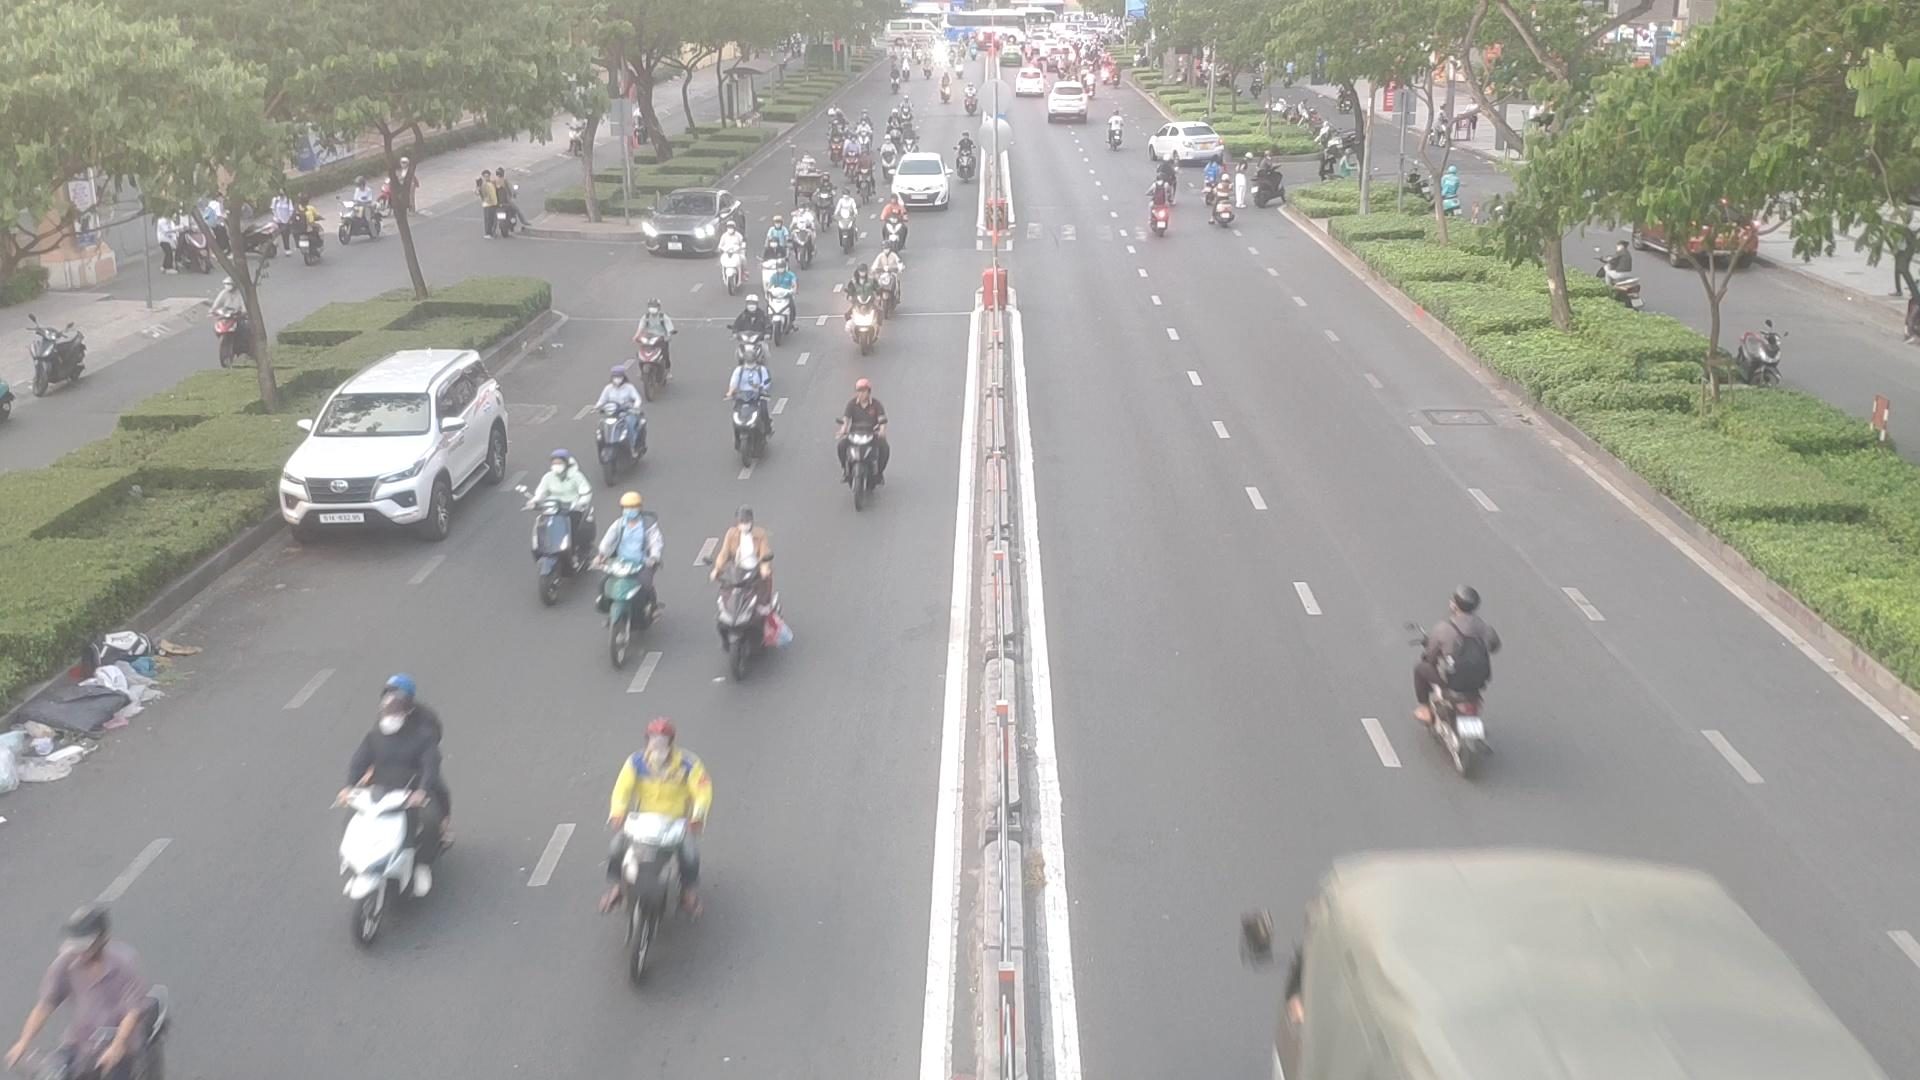car: (280, 353, 514, 545), (644, 191, 738, 257), (1145, 123, 1226, 165), (891, 152, 952, 207)
motorbike: (320, 675, 458, 971), (605, 709, 732, 1005), (1404, 583, 1501, 786), (597, 491, 676, 671), (518, 446, 593, 611), (708, 512, 775, 678), (591, 375, 653, 483), (841, 386, 884, 516), (729, 353, 771, 469), (637, 303, 673, 404), (847, 261, 878, 349), (764, 262, 796, 342), (720, 218, 745, 294), (876, 241, 899, 316), (1147, 181, 1174, 241), (794, 204, 815, 274), (833, 191, 858, 247), (884, 196, 907, 255), (814, 167, 833, 233), (1215, 170, 1237, 225), (955, 133, 973, 183), (1203, 157, 1225, 198), (858, 150, 874, 206), (1153, 156, 1175, 194), (843, 133, 858, 182), (881, 135, 894, 182), (828, 120, 840, 162), (903, 124, 916, 160), (860, 120, 868, 154)
